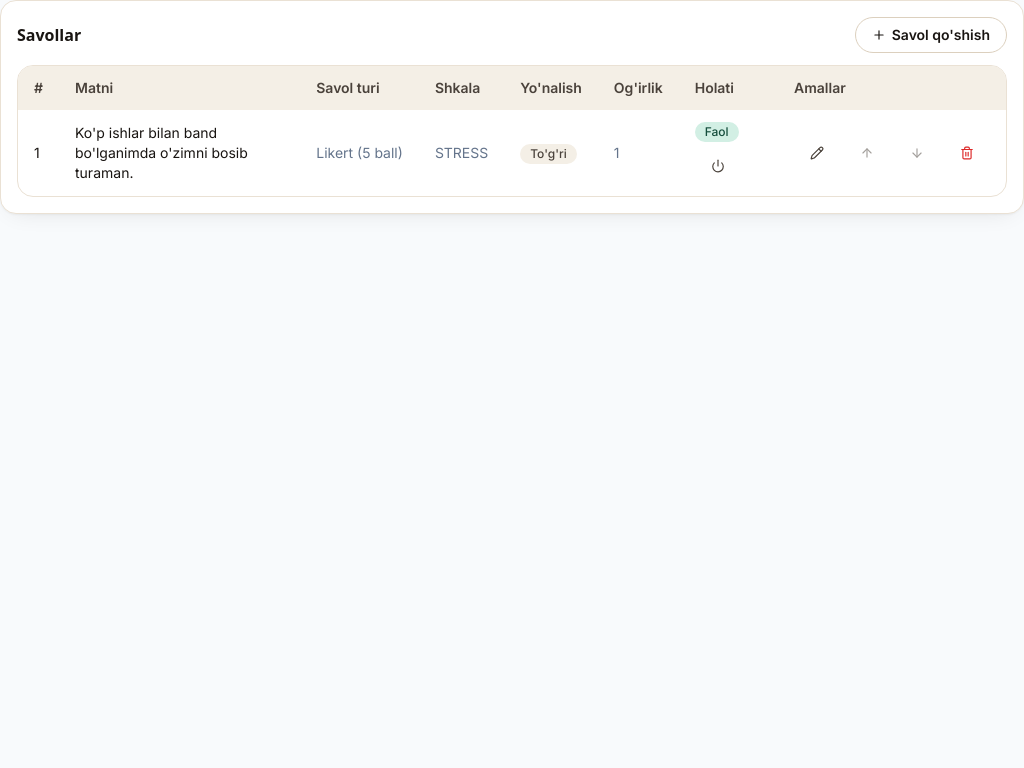
Scenario: QuestionsSection › server 409 QUESTION_IN_USE qaytarsa ham (hasAnswers noto'g'ri kelgan taqdirda) tushunarli xabar ko'rsatiladi
Click the button named "ST-Q01 savolini o'chirish": (967, 153) [944, 135, 990, 171]
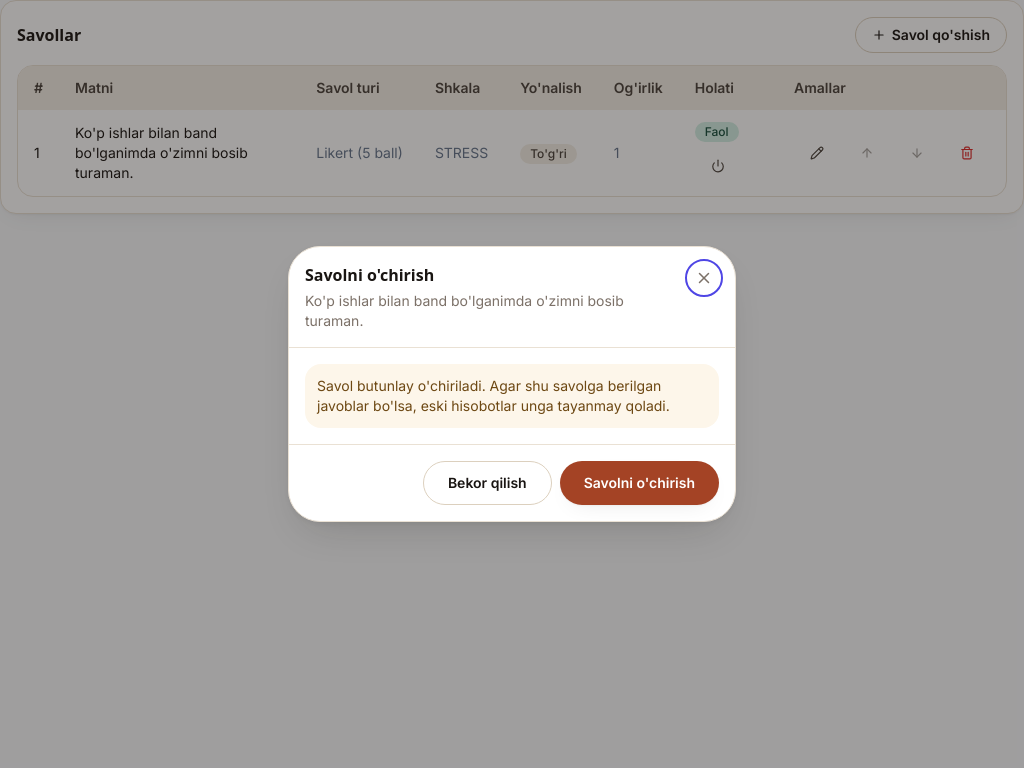
Click the button "Savolni o'chirish": (639, 483) [560, 461, 719, 505]
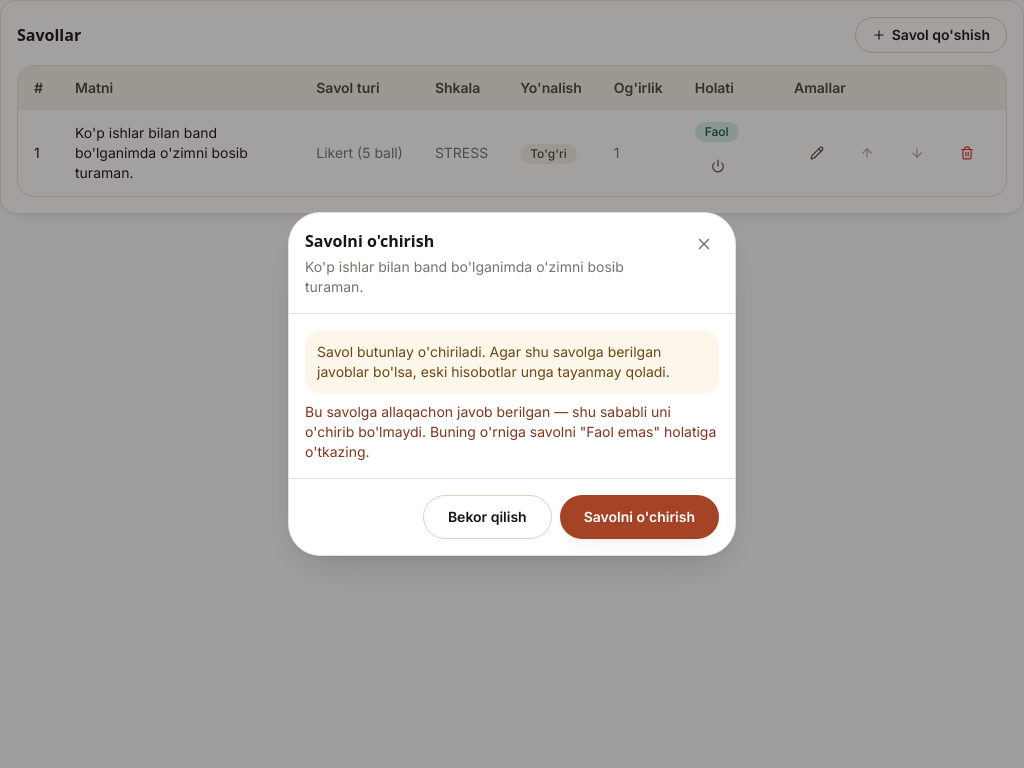
Result: the text "\"Faol emas\" holatiga o'tkazing" is shown at [305, 403, 716, 460]
